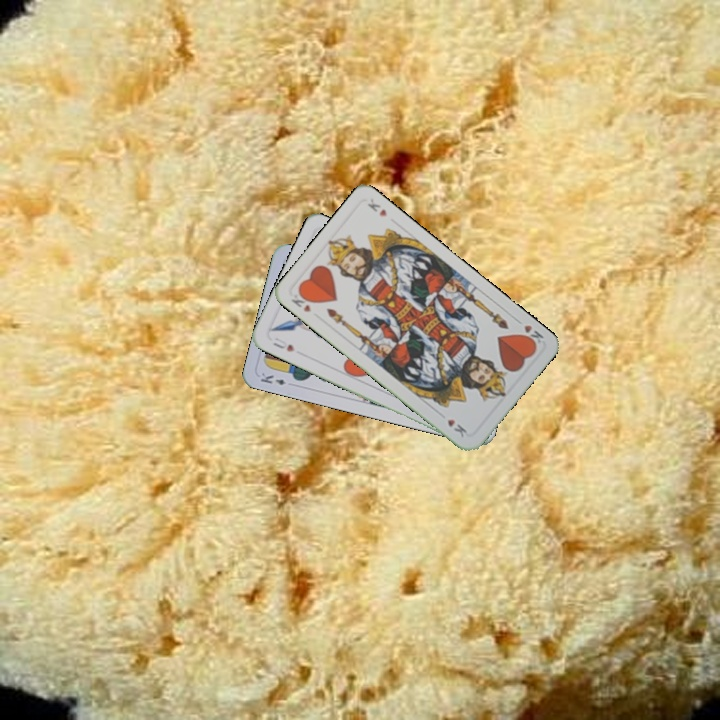EK: (256, 369, 297, 389)
HK: (511, 314, 546, 349), (287, 288, 316, 315)
HU: (269, 333, 297, 355)
